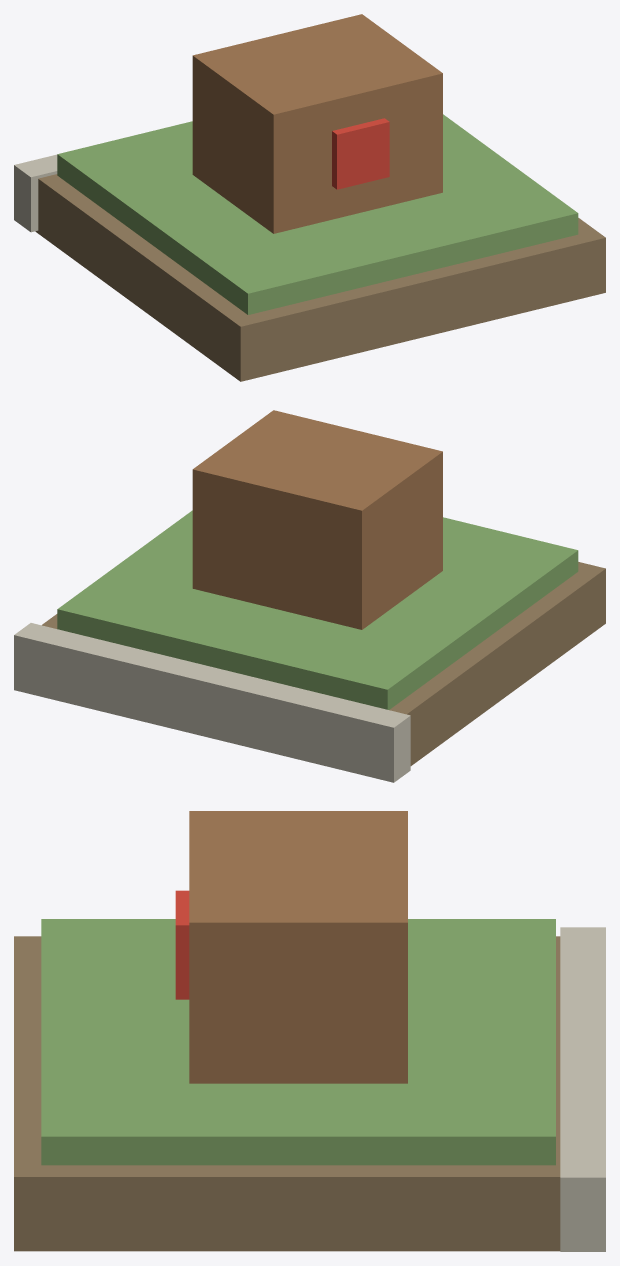
Rendered from 31_VatLieu.glb.
3 renders of one model, top to bottom at view 1: azimuth 30°, elevation 25°; view 2: azimuth 150°, elevation 25°; view 3: azimuth 270°, elevation 25°, orthographic. The views are drawn at different scales.
Parts seen in each view (by area): view 1: grass, crate, soil, badge, border; view 2: grass, crate, border, soil; view 3: grass, crate, soil, border, badge.
Boxes of the visible parts, bbox=[...] form: grass: bbox=[57, 114, 578, 314]; crate: bbox=[192, 14, 442, 233]; soil: bbox=[35, 174, 605, 381]; badge: bbox=[332, 118, 389, 189]; border: bbox=[14, 154, 57, 232]; grass: bbox=[57, 510, 578, 709]; crate: bbox=[192, 410, 442, 629]; border: bbox=[14, 623, 410, 782]; soil: bbox=[42, 562, 605, 765]; grass: bbox=[41, 919, 555, 1165]; crate: bbox=[189, 811, 407, 1083]; soil: bbox=[14, 936, 560, 1251]; border: bbox=[560, 927, 605, 1251]; badge: bbox=[175, 890, 189, 999].
Bounding box in the file's own units: 1.3 × 0.64 × 1.3.
